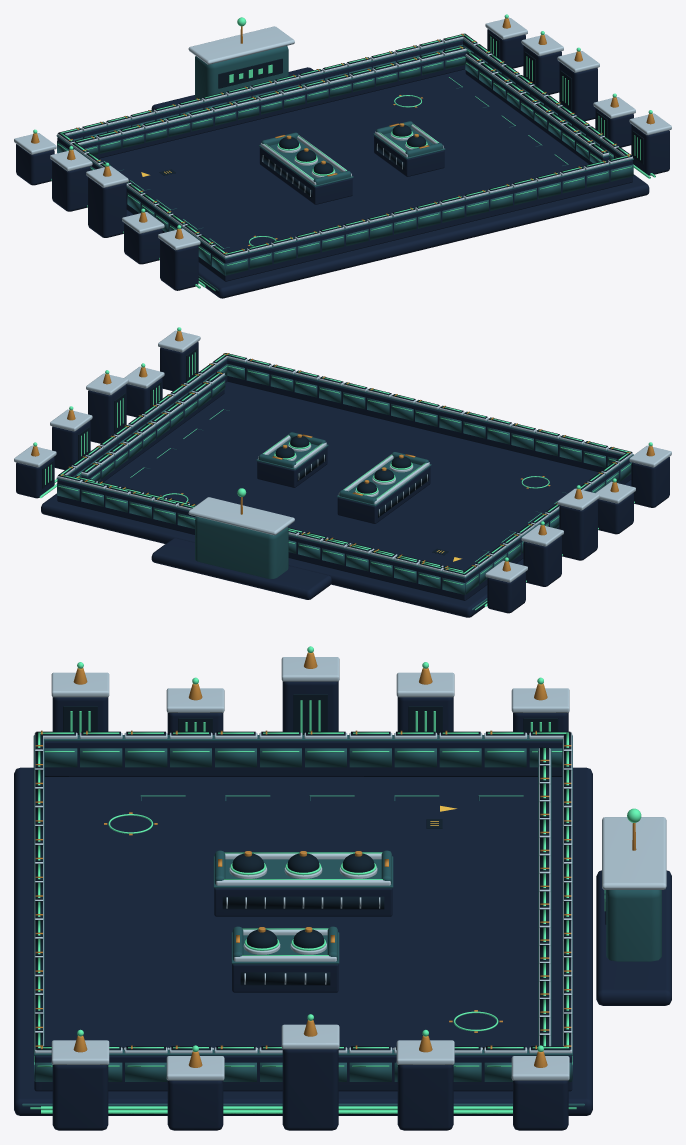
The model's file is rescue.glb.
3 views of the same model, one above another, from view 1: azimuth 30°, elevation 25°; view 2: azimuth 150°, elevation 25°; view 3: azimuth 270°, elevation 25° (orthographic). The views are drawn at different scales.
Visible parts, largest first — view 1: Raised orbital deck, SOLID 1 border, SOLID 6 reflector, Rescue control hub, Hub ivory canopy, SOLID 0 border, Exterior dock pylon.002, Exterior dock pylon.004, Exterior dock pylon.001, Exterior dock pylon.007, SOLID 4 cover, SOLID 7 reflector (+25 smaller); view 2: Raised orbital deck, SOLID 1 border, Rescue control hub, SOLID 0 border, Horizon installation platform, Hub ivory canopy, Exterior dock pylon.002, Exterior dock pylon.001, Exterior dock pylon.004, Exterior dock pylon.007, SOLID 4 cover, SOLID 7 reflector (+23 smaller); view 3: Raised orbital deck, SOLID 2 border, Horizon installation platform, SOLID 3 border, Exterior dock pylon.007, Hub ivory canopy, Rescue control hub, Exterior dock pylon.006, Exterior dock pylon.009, SOLID 4 cover, Exterior dock pylon.008, Exterior dock pylon.005 (+41 smaller).
Boxes of the visible parts, left/top/right/bottom form: Raised orbital deck: left=99, top=69, right=649, bottom=298; SOLID 1 border: left=223, top=160, right=632, bottom=281; SOLID 6 reflector: left=81, top=52, right=466, bottom=158; Rescue control hub: left=195, top=46, right=288, bottom=98; Hub ivory canopy: left=188, top=26, right=294, bottom=64; SOLID 0 border: left=57, top=40, right=463, bottom=140; Exterior dock pylon.002: left=88, top=177, right=126, bottom=237; Exterior dock pylon.004: left=160, top=239, right=198, bottom=290; Exterior dock pylon.001: left=52, top=160, right=90, bottom=211; Exterior dock pylon.007: left=559, top=62, right=597, bottom=121; SOLID 4 cover: left=259, top=147, right=352, bottom=204; SOLID 7 reflector: left=465, top=58, right=608, bottom=164; Raised orbital deck: left=41, top=381, right=631, bottom=617; SOLID 1 border: left=227, top=359, right=621, bottom=472; Rescue control hub: left=195, top=516, right=288, bottom=578; SOLID 0 border: left=57, top=480, right=467, bottom=600; Horizon installation platform: left=151, top=538, right=331, bottom=599; Hub ivory canopy: left=188, top=497, right=294, bottom=535; Exterior dock pylon.002: left=559, top=499, right=597, bottom=560; Exterior dock pylon.001: left=523, top=536, right=561, bottom=586; Exterior dock pylon.004: left=631, top=457, right=669, bottom=507; Exterior dock pylon.007: left=88, top=384, right=126, bottom=443; SOLID 4 cover: left=337, top=466, right=430, bottom=523; SOLID 7 reflector: left=81, top=377, right=224, bottom=482; Raised orbital deck: left=14, top=767, right=592, bottom=1115; SOLID 2 border: left=44, top=741, right=562, bottom=776; Horizon installation platform: left=596, top=870, right=671, bottom=1005; SOLID 3 border: left=34, top=1055, right=572, bottom=1091; Exterior dock pylon.007: left=282, top=1049, right=338, bottom=1130; Hub ivory canopy: left=602, top=817, right=666, bottom=889; Rescue control hub: left=606, top=890, right=661, bottom=961; Exterior dock pylon.006: left=397, top=1065, right=453, bottom=1130; Exterior dock pylon.009: left=52, top=1065, right=108, bottom=1130; SOLID 4 cover: left=214, top=888, right=392, bottom=916; Exterior dock pylon.008: left=167, top=1080, right=223, bottom=1130; Exterior dock pylon.005: left=513, top=1080, right=568, bottom=1130.
Size of the model in its own units: 25.51 by 4.34 by 18.3.
